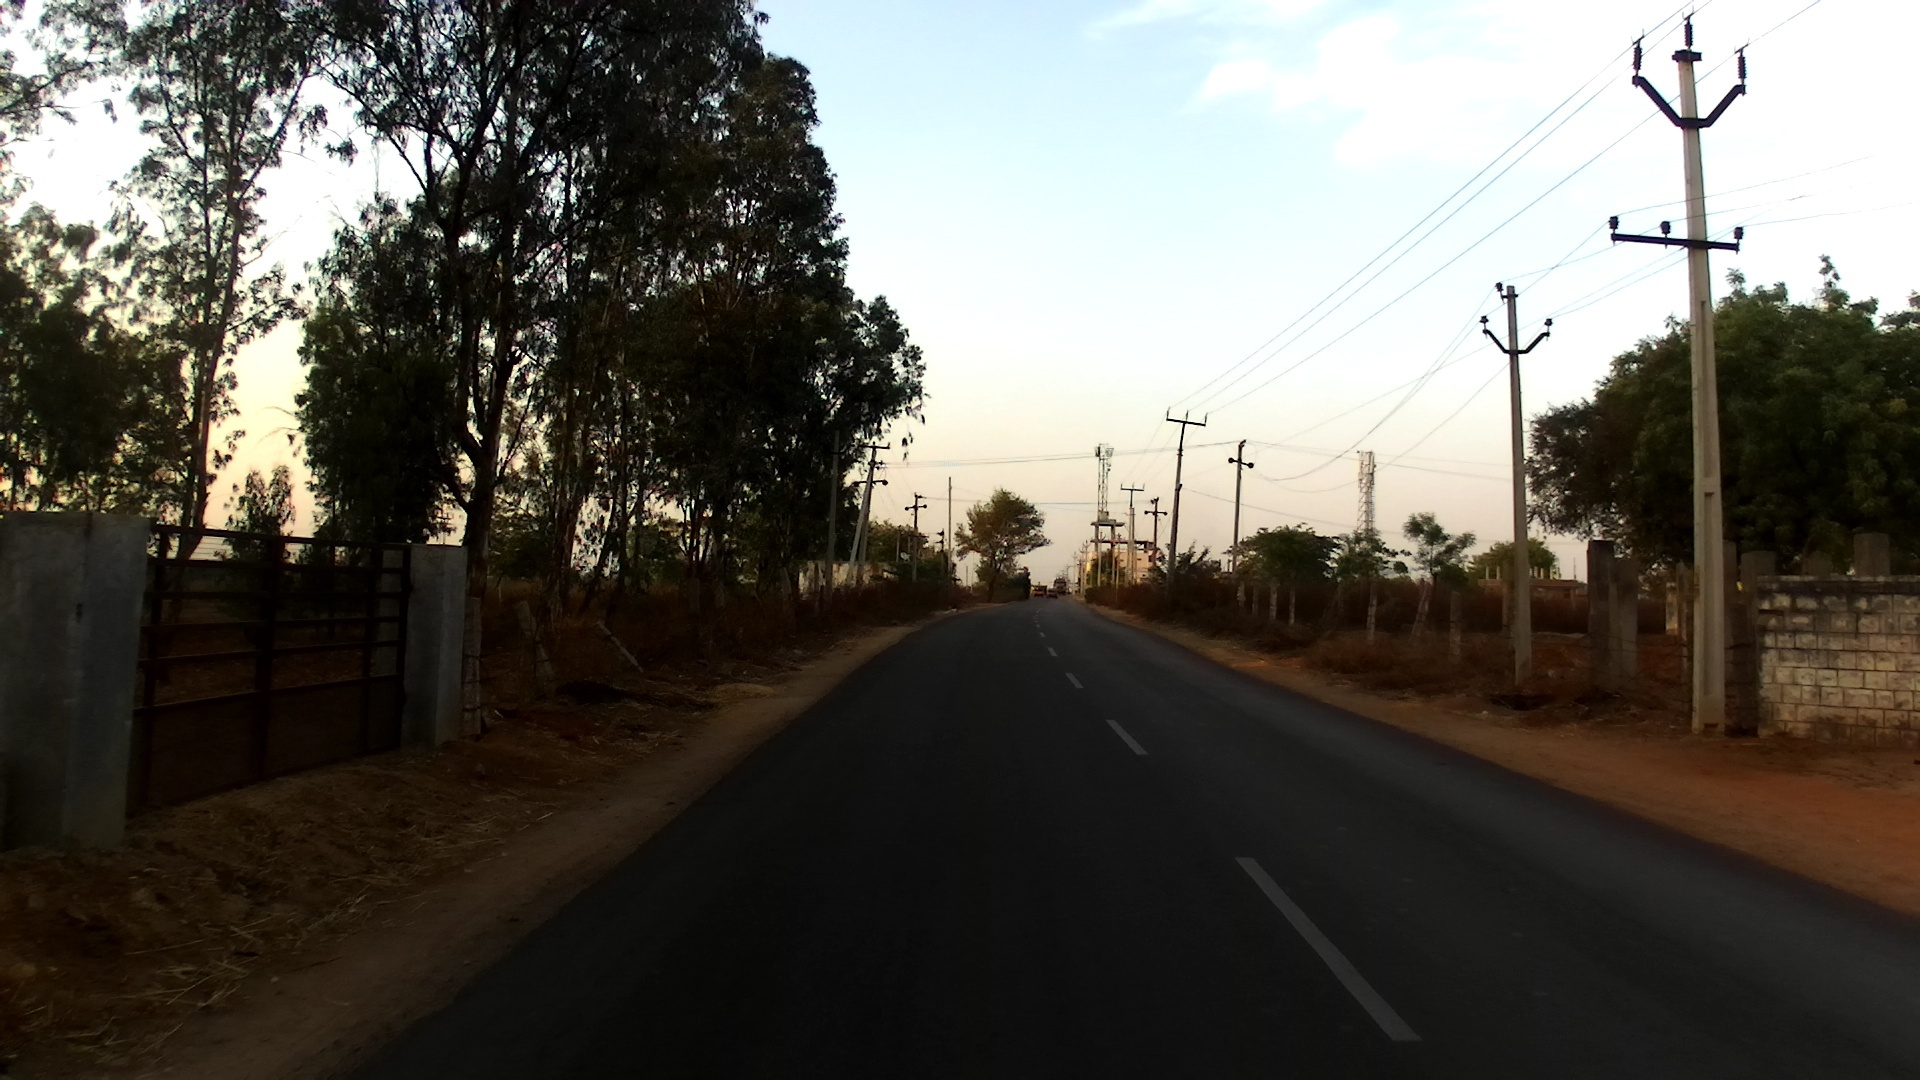autorickshaw: (1031, 585, 1048, 597)
car: (1047, 589, 1059, 600)
truck: (1054, 578, 1068, 596)
